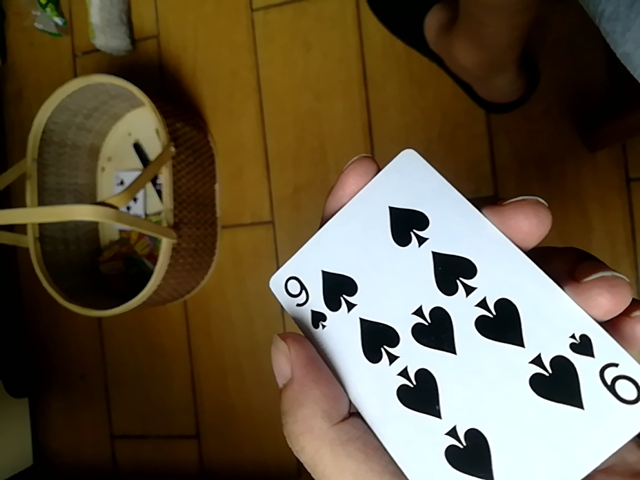ht 9: (270, 145, 634, 480)
